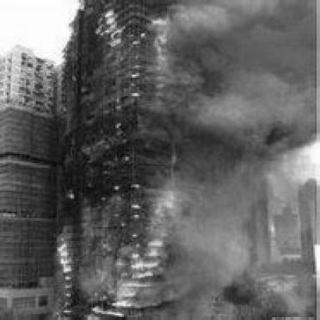Fire: (123, 142, 183, 302), (140, 12, 180, 100)
Smoke: (183, 2, 316, 152)
